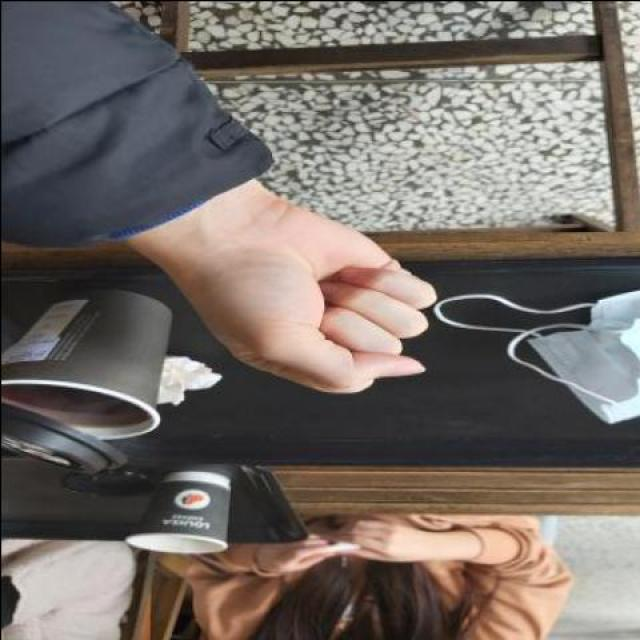Closed Hand: (204, 167, 456, 417)
